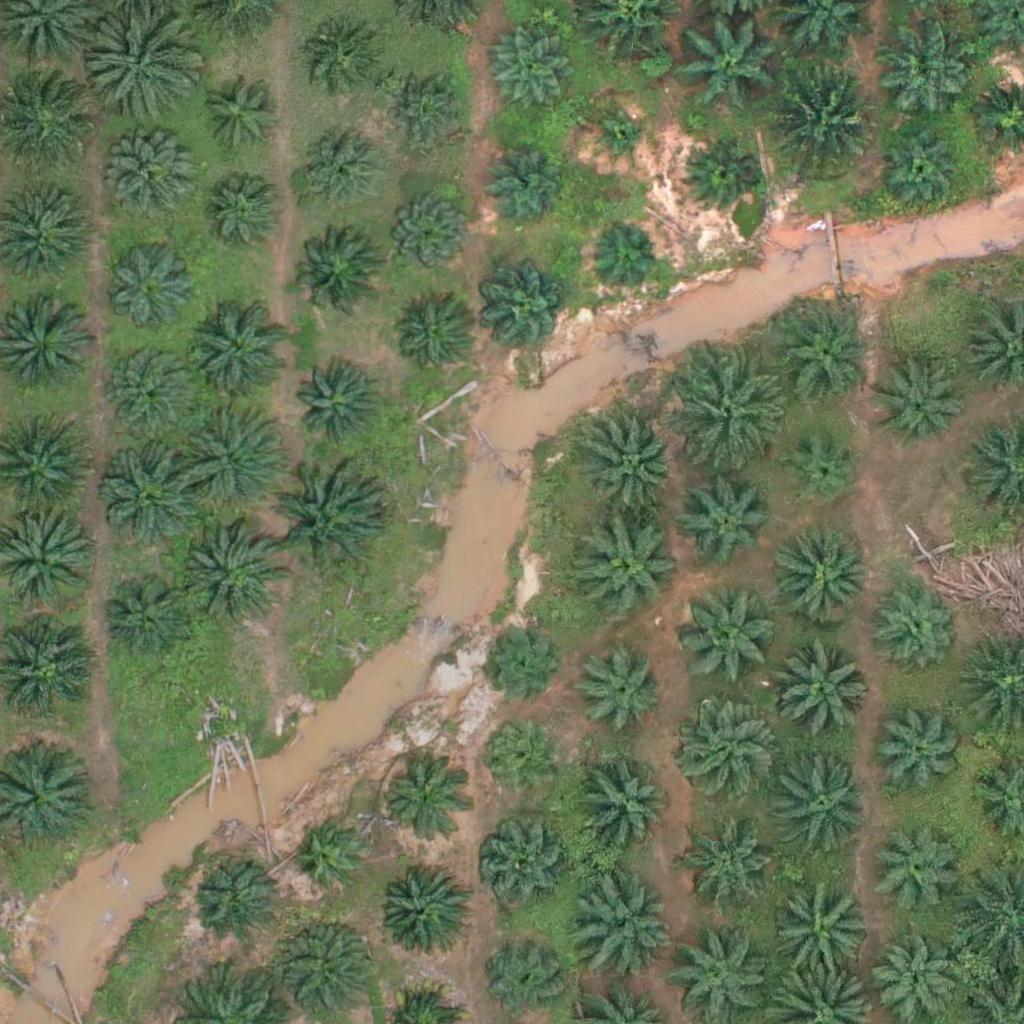Kelapa_Sawit: (671, 357, 784, 471), (269, 462, 382, 575), (87, 6, 199, 120), (680, 7, 792, 120), (771, 59, 883, 172), (172, 399, 284, 512), (776, 305, 876, 406), (871, 28, 971, 129), (776, 885, 876, 986), (676, 699, 776, 800), (568, 640, 668, 741), (178, 523, 278, 624), (103, 440, 203, 541), (103, 238, 203, 338), (189, 302, 289, 402), (574, 760, 674, 860), (577, 876, 677, 976), (276, 914, 376, 1014), (772, 526, 872, 626), (772, 639, 872, 739), (771, 754, 871, 854), (680, 584, 780, 684), (584, 414, 684, 514), (575, 520, 675, 620), (194, 169, 282, 258), (108, 345, 196, 434), (300, 23, 388, 111), (487, 29, 575, 117), (484, 268, 572, 356), (867, 829, 955, 917), (690, 830, 778, 918), (478, 717, 566, 805), (482, 935, 570, 1023), (191, 855, 279, 943), (877, 360, 965, 448), (389, 295, 476, 383), (384, 188, 471, 276), (384, 67, 471, 155), (191, 76, 278, 164), (294, 127, 381, 215), (290, 227, 377, 315), (110, 139, 197, 227), (482, 135, 569, 223), (880, 128, 967, 216), (480, 818, 567, 906), (382, 759, 469, 847), (378, 864, 465, 952), (874, 704, 961, 792), (871, 581, 958, 669), (681, 481, 768, 569), (480, 618, 567, 706), (295, 364, 382, 452), (104, 571, 191, 659), (294, 821, 369, 897), (682, 136, 757, 212), (785, 430, 860, 506), (588, 219, 663, 294), (589, 108, 652, 171)
